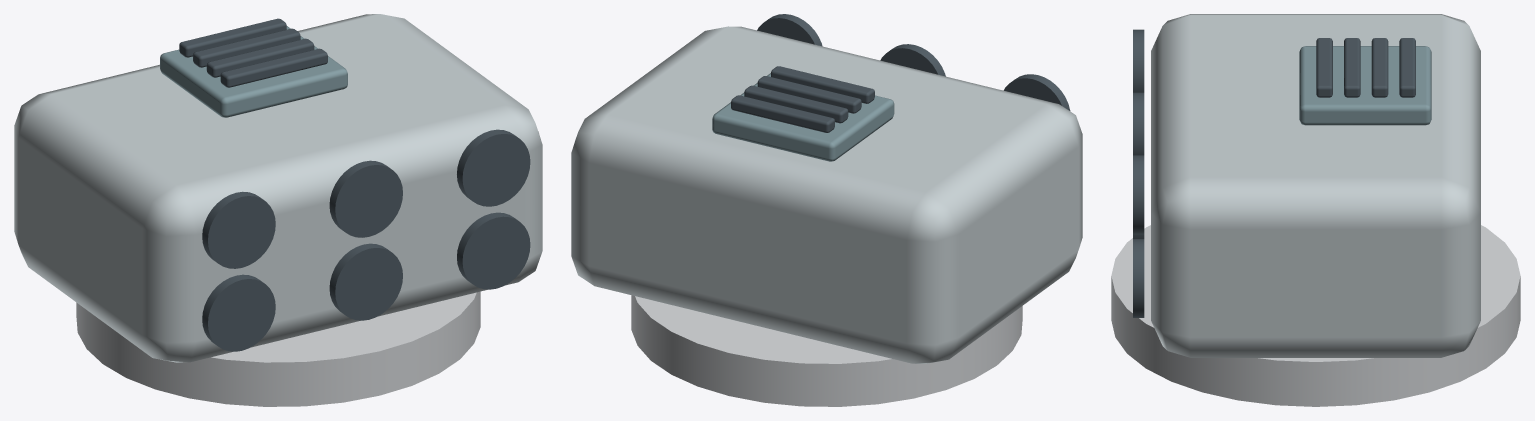
Rendered from missile-pod.glb.
The picture shows the model from 3 angles, left to right: view 1: azimuth 30°, elevation 25°; view 2: azimuth 150°, elevation 25°; view 3: azimuth 270°, elevation 25°; orthographic projection. The views are drawn at different scales.
Parts seen in each view (by area): view 1: missile-pod; view 2: missile-pod; view 3: missile-pod.
Boxes of the visible parts, bbox=[...] form: missile-pod: bbox=[14, 14, 542, 406]; missile-pod: bbox=[571, 14, 1082, 406]; missile-pod: bbox=[1111, 14, 1520, 406].
Bounding box in the file's own units: 1.4 × 0.865 × 1.24.
